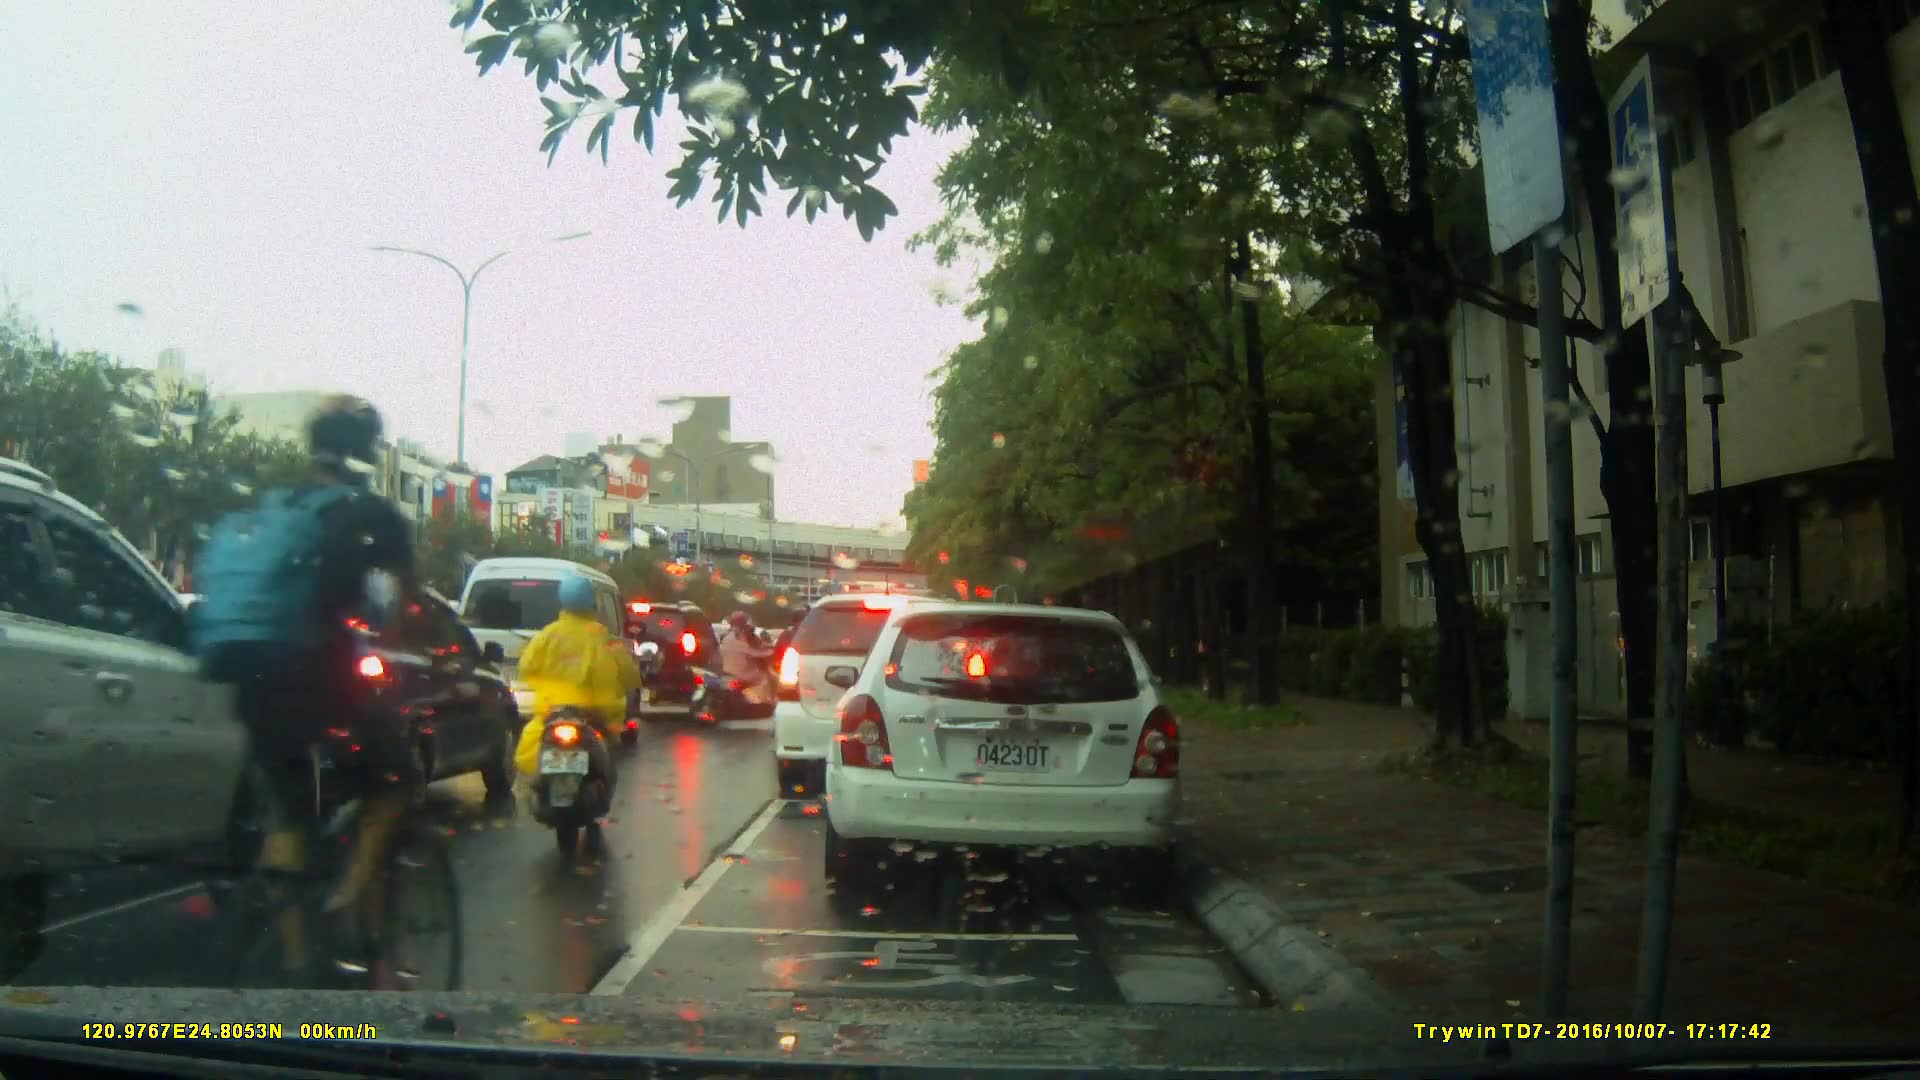rider: (190, 387, 469, 1029), (508, 578, 661, 853), (687, 606, 779, 720)
vehicle: (1, 439, 327, 987), (815, 593, 1204, 909), (177, 572, 529, 834), (770, 590, 995, 802), (443, 557, 650, 766), (597, 599, 739, 716)
